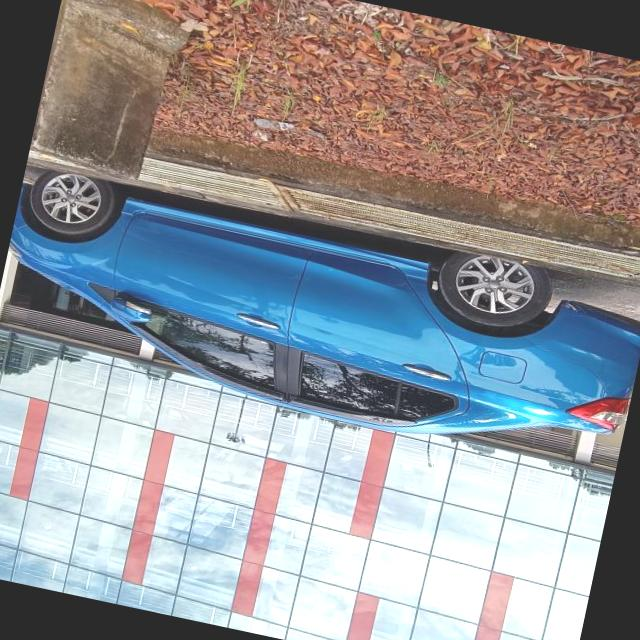PeroduaBezza: (0, 157, 640, 480)
